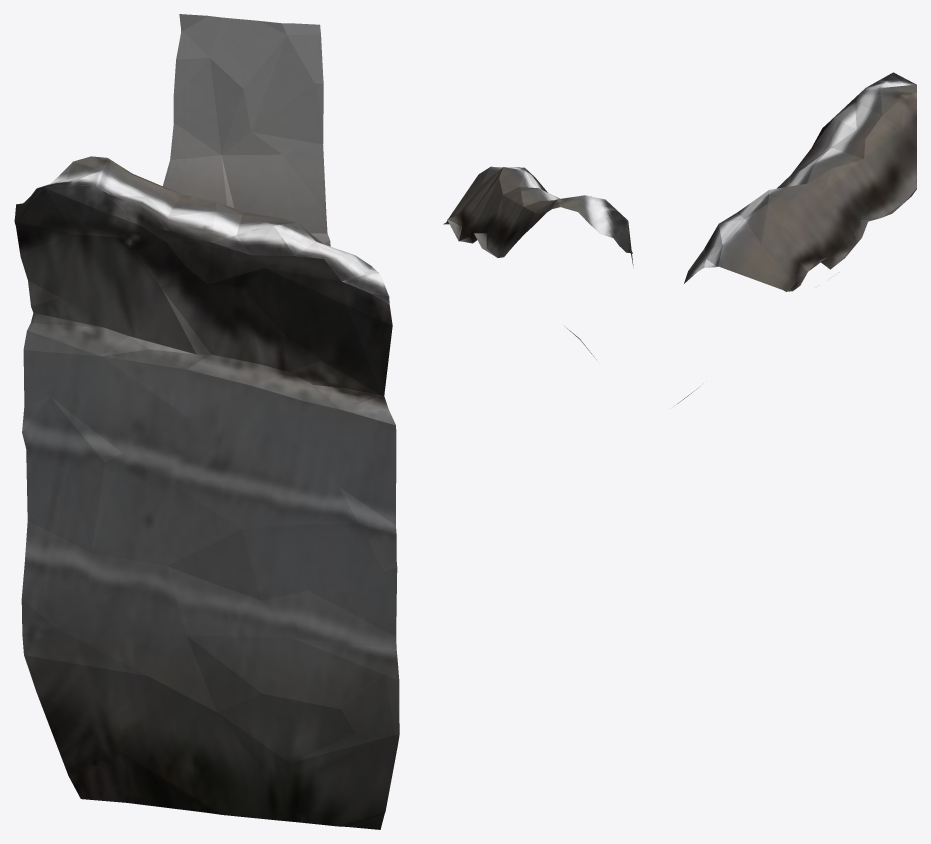
The picture shows the model from 3 angles, left to right: view 1: azimuth 30°, elevation 25°; view 2: azimuth 150°, elevation 25°; view 3: azimuth 270°, elevation 25°; orthographic projection. The views are drawn at different scales.
Size of the model in its own units: 0.5975 by 1.67 by 0.501.
Materials: 1 (1 with a texture image).
